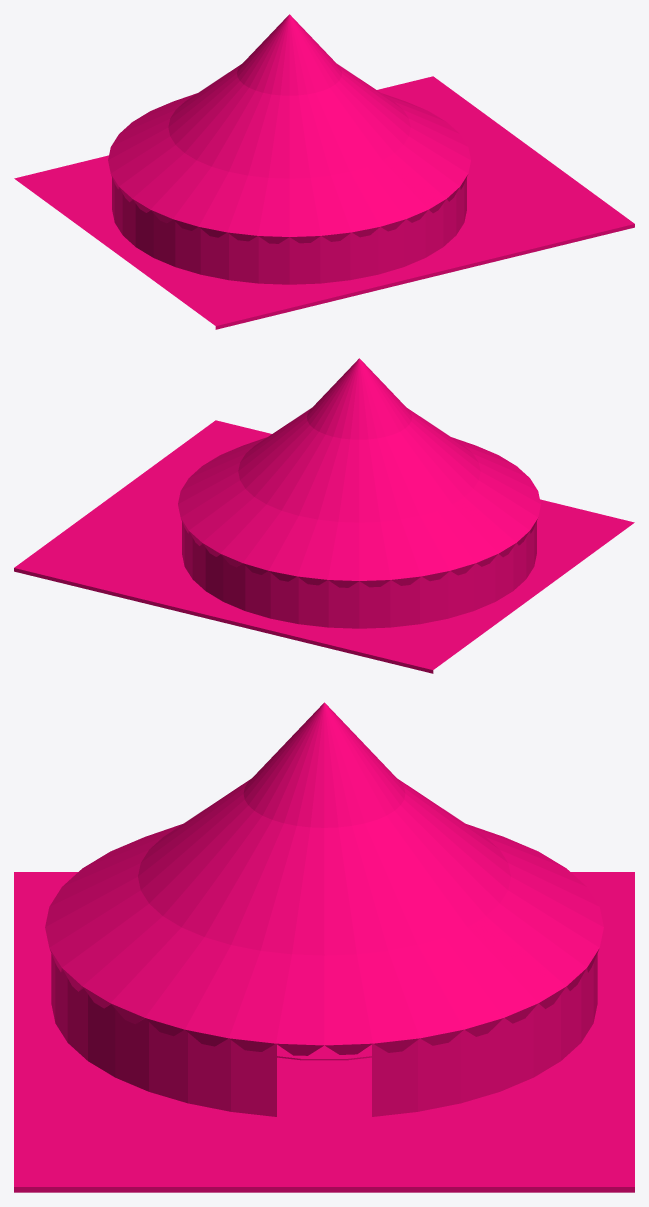
Rendered from Camillas_tent.gltf.
3 views of the same model, one above another, from view 1: azimuth 30°, elevation 25°; view 2: azimuth 150°, elevation 25°; view 3: azimuth 270°, elevation 25° (orthographic). The views are drawn at different scales.
Parts seen in each view (by area): view 1: Camilla's_tent, grass field; view 2: Camilla's_tent, grass field; view 3: Camilla's_tent, grass field.
Boxes of the visible parts, box(x1,y1,x2,y2) form: Camilla's_tent: box(108, 14, 470, 284); grass field: box(14, 76, 634, 329); Camilla's_tent: box(178, 358, 540, 628); grass field: box(14, 420, 634, 673); Camilla's_tent: box(45, 702, 603, 1116); grass field: box(14, 872, 634, 1192).
Bounding box in the file's own units: 24 × 10.9 × 20.
Materials: 1 (1 with a texture image).
